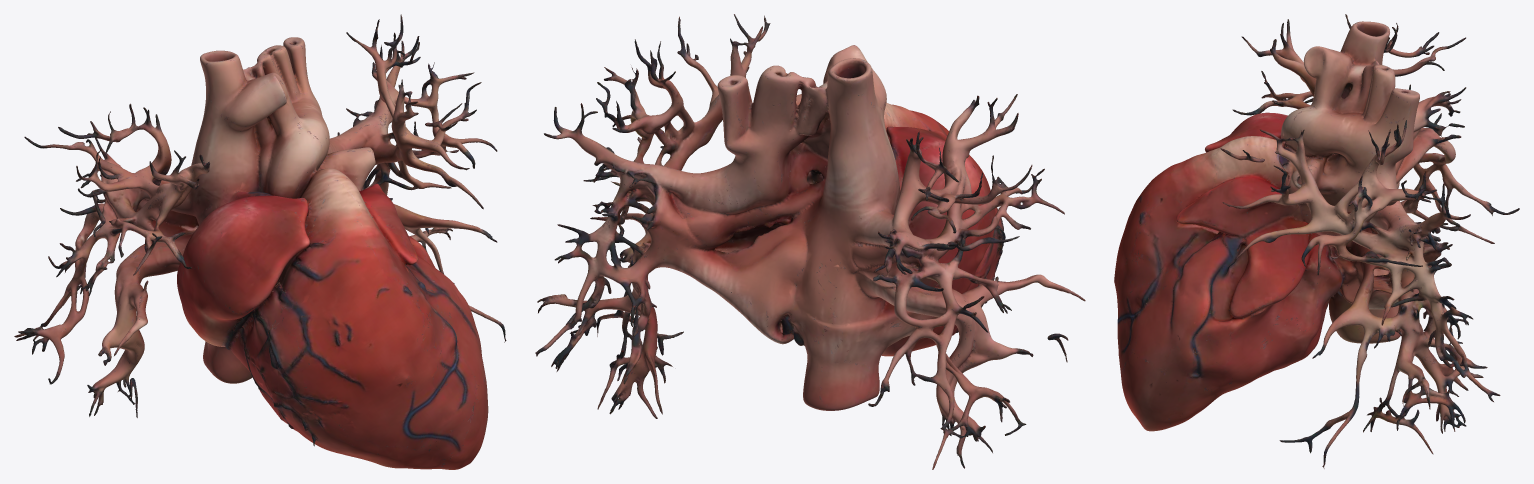
Rendered from heart_optimized.glb.
The picture shows the model from 3 angles, left to right: view 1: azimuth 30°, elevation 25°; view 2: azimuth 150°, elevation 25°; view 3: azimuth 270°, elevation 25°; orthographic projection. The views are drawn at different scales.
Bounding box in the file's own units: 2 × 1.57 × 1.68.
Materials: 1 (1 with a texture image).
